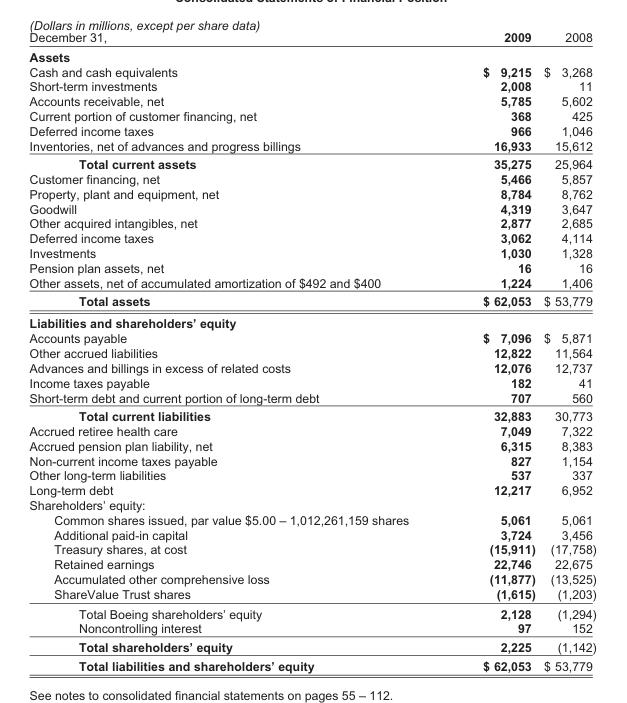table: (28, 29, 595, 672)
table column: (28, 29, 445, 672), (445, 29, 538, 672), (538, 29, 595, 672)
table column header: (28, 29, 595, 46)
table projected row header: (28, 311, 595, 330), (28, 46, 595, 63), (28, 497, 595, 511)
table row: (28, 291, 595, 311), (28, 311, 595, 330), (28, 585, 595, 603), (28, 637, 595, 655), (28, 29, 595, 46), (28, 46, 595, 63), (28, 137, 595, 154), (28, 154, 595, 171), (28, 274, 595, 291), (28, 389, 595, 406), (28, 603, 595, 620), (28, 620, 595, 637), (28, 655, 595, 672), (28, 406, 595, 422), (28, 63, 595, 78), (28, 78, 595, 93), (28, 93, 595, 108), (28, 122, 595, 137), (28, 185, 595, 200), (28, 200, 595, 215), (28, 215, 595, 230), (28, 230, 595, 245), (28, 259, 595, 274), (28, 330, 595, 345), (28, 359, 595, 374), (28, 374, 595, 389), (28, 422, 595, 437), (28, 437, 595, 452), (28, 452, 595, 467), (28, 467, 595, 482), (28, 482, 595, 497), (28, 511, 595, 526), (28, 526, 595, 541), (28, 541, 595, 556), (28, 556, 595, 571), (28, 108, 595, 122), (28, 171, 595, 185), (28, 245, 595, 259), (28, 345, 595, 359), (28, 497, 595, 511), (28, 571, 595, 585)
